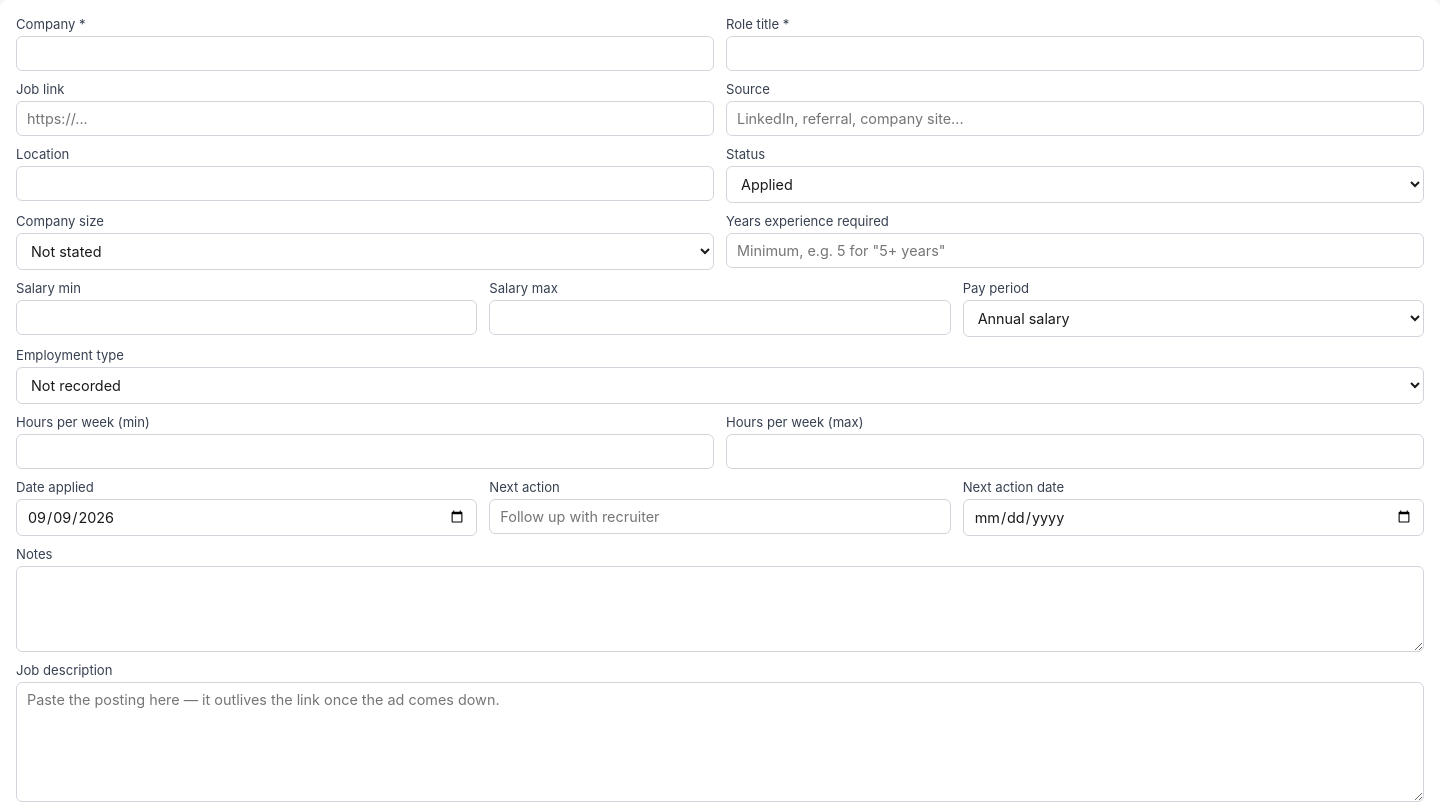
Test: ApplicationForm › tracking a job before applying (KAN-31) › shows Interested once the date is cleared
Expected: the dropdown labelled "Status" shows "Applied", [726,166,1424,203]
Clear the date field labelled "Date applied" at (247, 518), box [16,499,477,536]
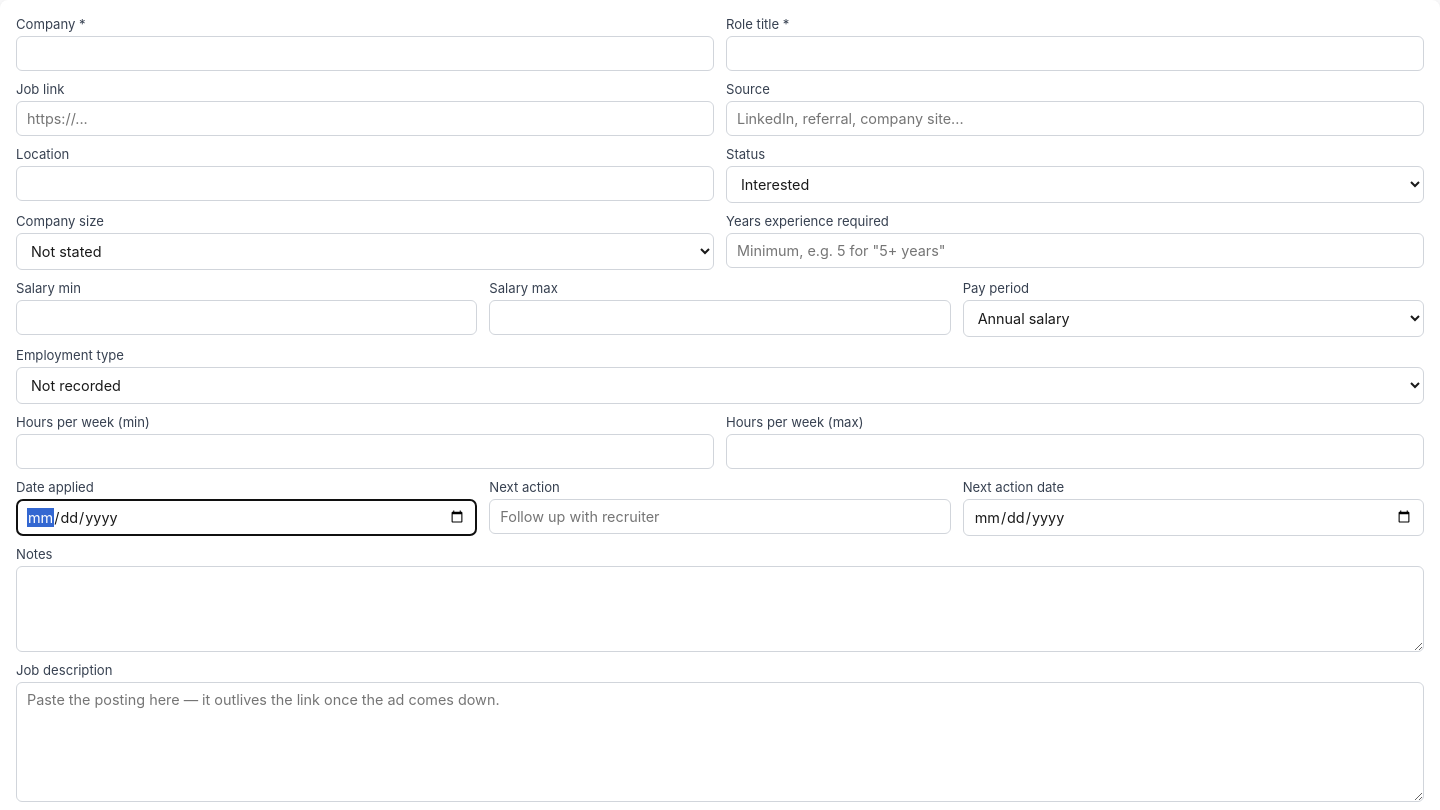
Expected: the dropdown labelled "Status" shows "Interested", [726,166,1424,203]
